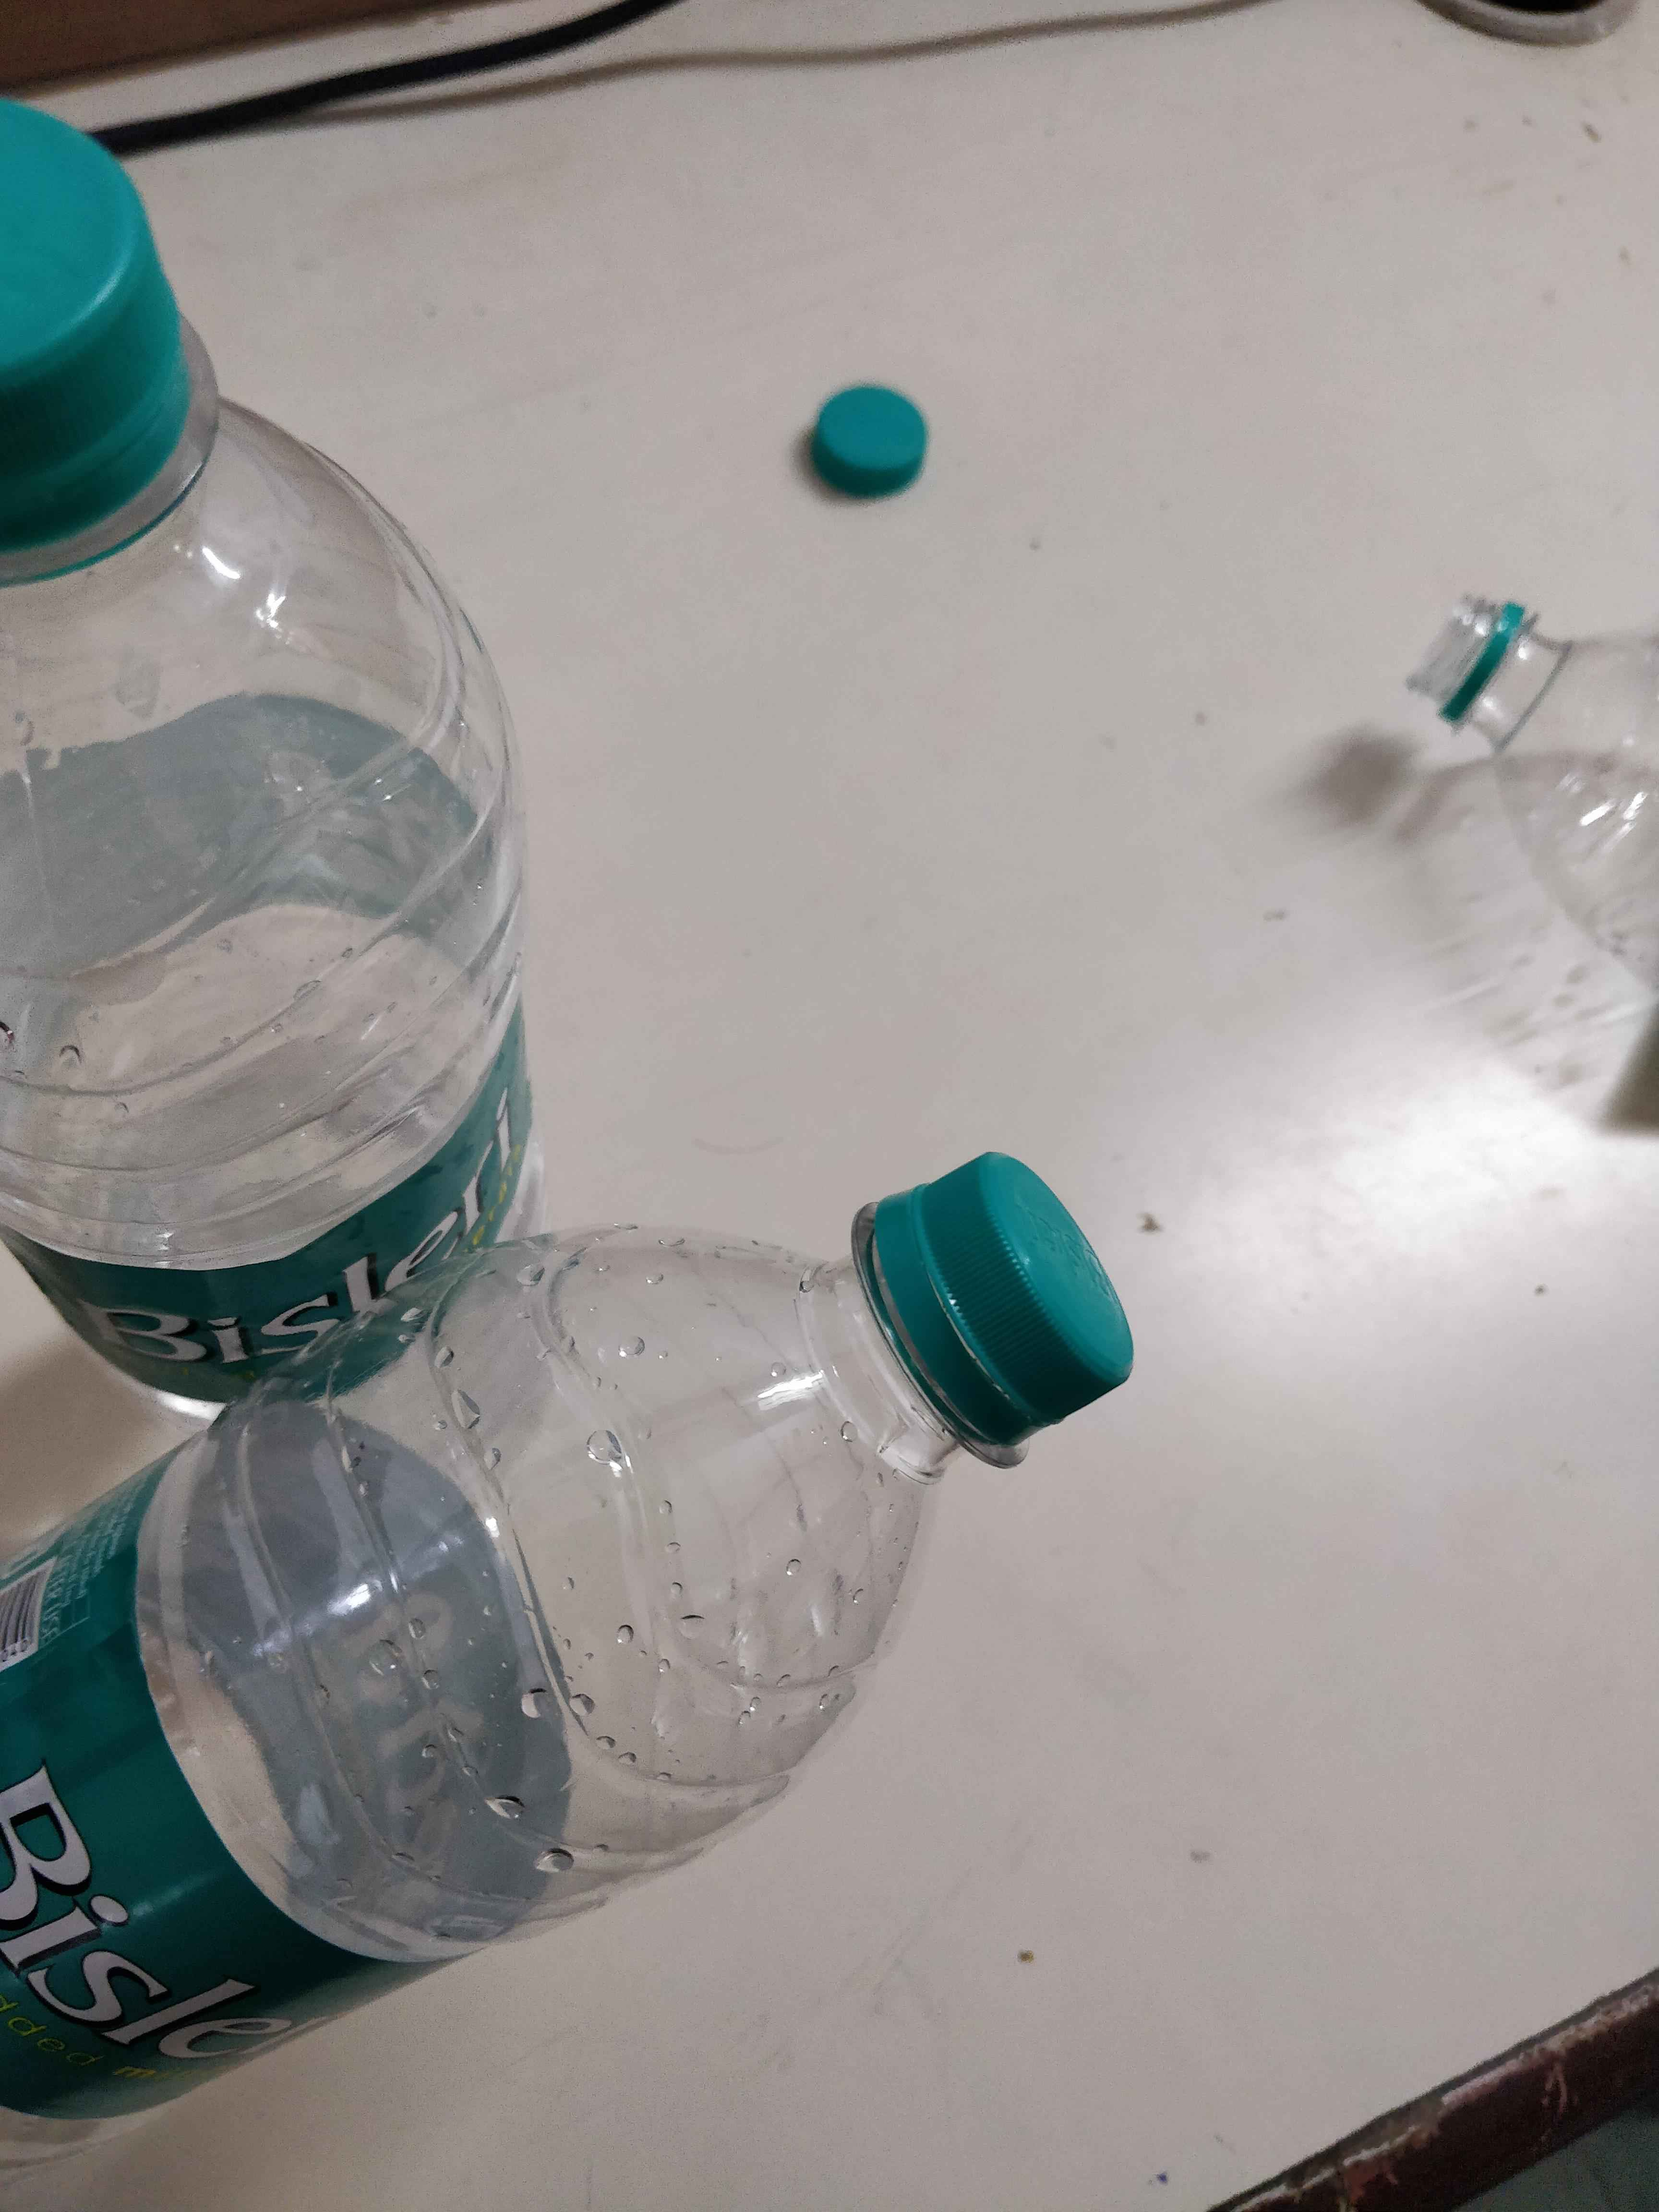Bisleri: (78, 1073, 538, 1385), (0, 1735, 364, 2026)
